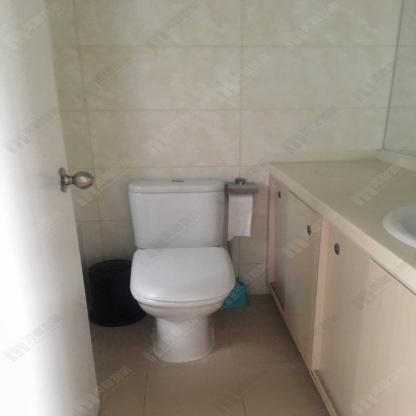Toilet: (123, 170, 242, 365)
